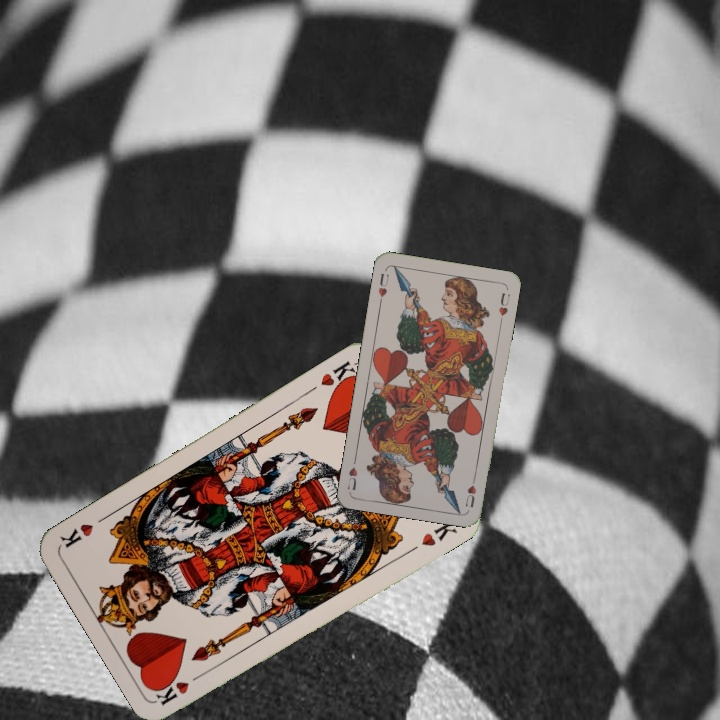HK: (153, 667, 209, 708), (316, 356, 362, 395)
HU: (461, 471, 479, 510), (374, 269, 391, 306)
